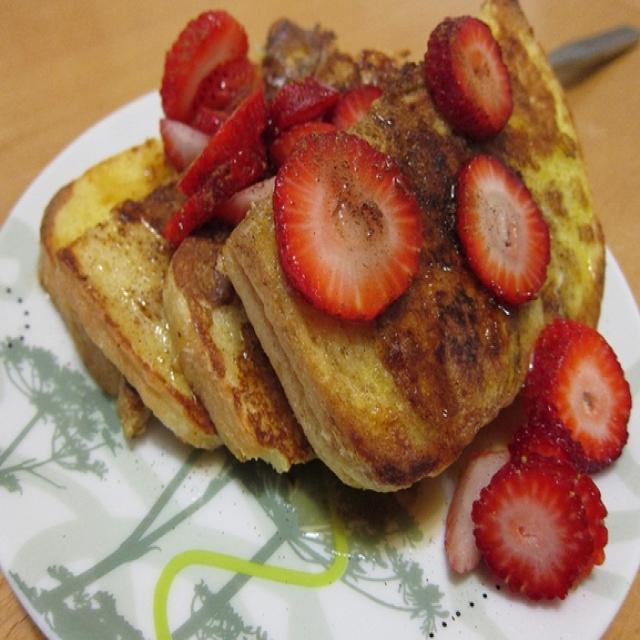面包点心: (21, 18, 611, 597)
